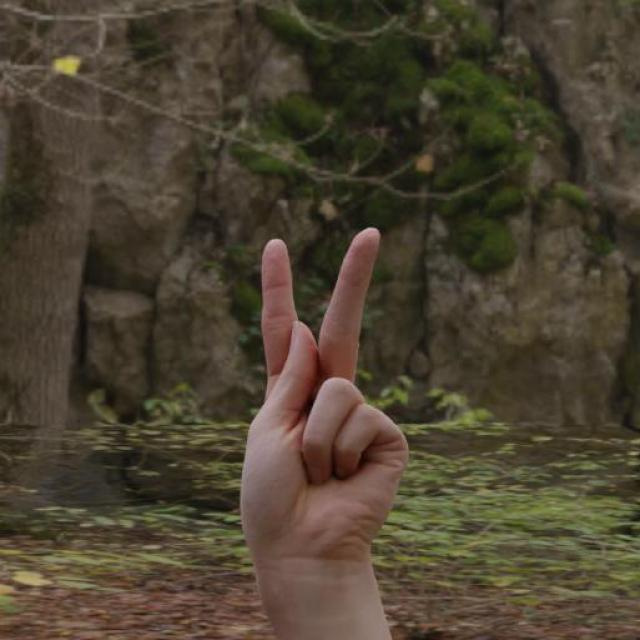K: (239, 225, 413, 573)
